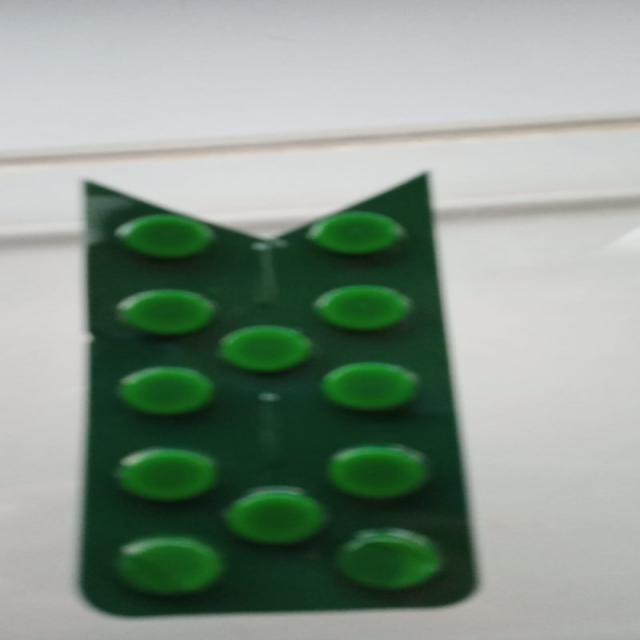Empty: (338, 519, 442, 596)
Pill: (214, 487, 344, 546), (112, 536, 230, 599), (318, 441, 436, 499), (108, 445, 222, 503), (104, 362, 222, 418), (100, 211, 230, 261), (302, 282, 426, 332), (316, 360, 430, 414), (112, 284, 218, 336), (298, 212, 414, 258), (216, 323, 314, 373)
